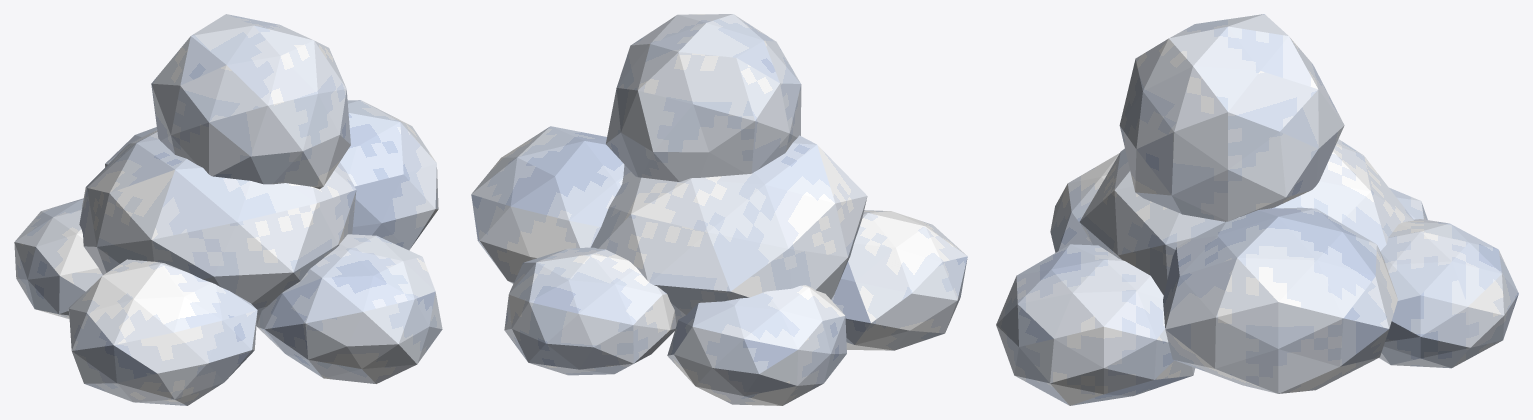
The model's file is cloud_puff.glb.
The picture shows the model from 3 angles, left to right: view 1: azimuth 30°, elevation 25°; view 2: azimuth 150°, elevation 25°; view 3: azimuth 270°, elevation 25°; orthographic projection. The views are drawn at different scales.
Visible parts, largest first — view 1: cloud_puff; view 2: cloud_puff; view 3: cloud_puff.
Boxes of the visible parts, x1,y1,x2,y2 form: cloud_puff: (14, 14, 442, 405); cloud_puff: (471, 14, 967, 405); cloud_puff: (996, 14, 1518, 405).
Size of the model in its own units: 1.36 by 1 by 1.37.
Materials: 1 (1 with a texture image).
